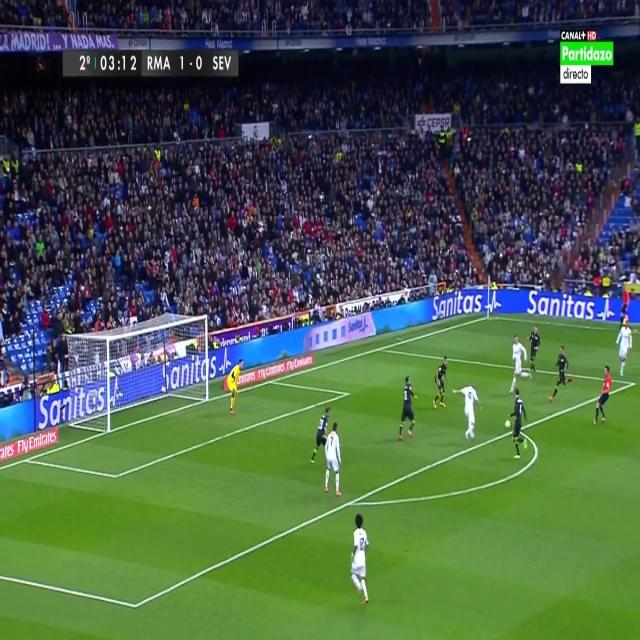Ball: (503, 415, 513, 433)
Goalkeeper: (224, 358, 246, 421)
Player: (349, 510, 371, 608), (452, 380, 482, 443), (548, 344, 576, 408), (323, 422, 345, 498), (396, 374, 419, 446), (510, 390, 530, 461), (614, 315, 635, 379), (509, 333, 531, 392), (430, 355, 451, 412), (310, 405, 330, 463), (528, 324, 545, 375)
Referee: (593, 363, 614, 428), (618, 286, 630, 328)
